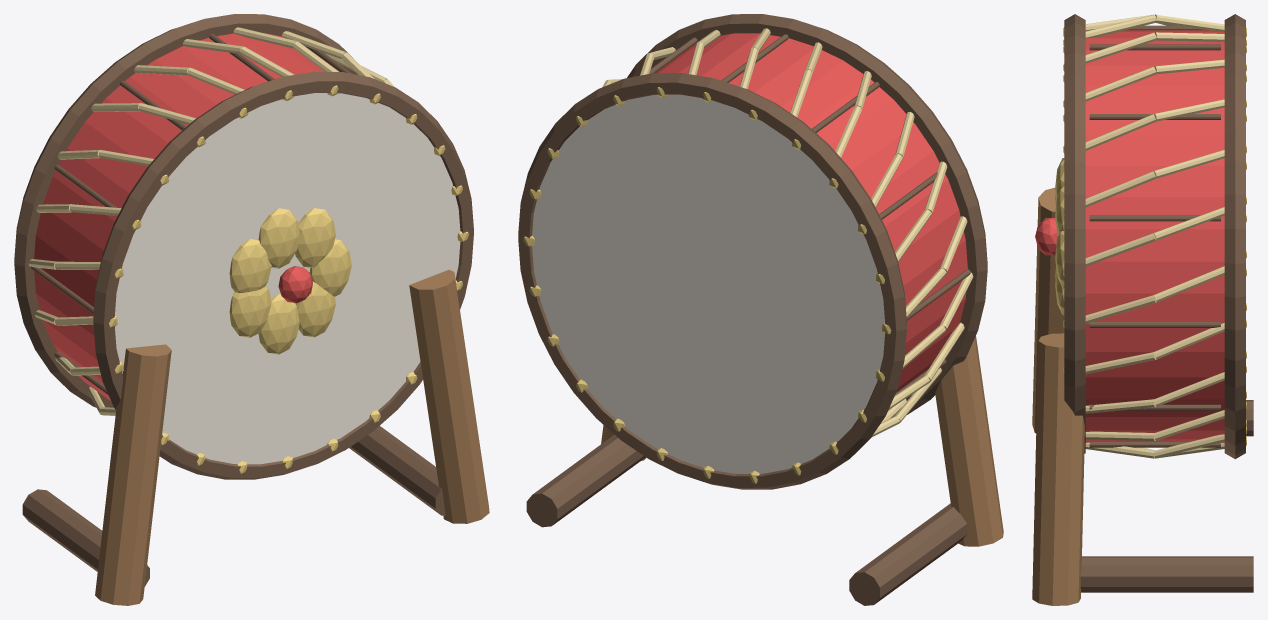
File: shinji_ritual_drum.glb
3 renders of one model, left to right at view 1: azimuth 30°, elevation 25°; view 2: azimuth 150°, elevation 25°; view 3: azimuth 270°, elevation 25°, orthographic. The views are drawn at different scales.
Parts seen in each view (by area): view 1: Sacred fixed shinto shrine drum taut drum skin, Sacred fixed shinto shrine drum hardwood shell, Sacred fixed shinto shrine drum leather head rim, Drum stand arch foot, Drum stand arch foot.001, Sacred fixed shinto shrine drum leather head rim.001, Crossbrace.001, Crossbrace, Shrine drum traditional mon petal.002, Shrine drum traditional mon petal.001, Shrine drum traditional mon petal.003, Shrine drum traditional mon petal.005 (+4 smaller); view 2: Sacred fixed shinto shrine drum taut drum skin.001, Sacred fixed shinto shrine drum hardwood shell, Sacred fixed shinto shrine drum leather head rim.001, Sacred fixed shinto shrine drum leather head rim, Drum stand arch foot, Crossbrace, Crossbrace.001; view 3: Sacred fixed shinto shrine drum hardwood shell, Drum stand arch foot.001, Sacred fixed shinto shrine drum leather head rim.001, Sacred fixed shinto shrine drum leather head rim, Crossbrace.001, Drum stand arch foot, Sacred fixed shinto shrine drum wood grain, Sacred fixed shinto shrine drum wood grain.001, Sacred fixed shinto shrine drum wood grain.003, Shrine drum traditional mon center, Sacred fixed shinto shrine drum wood grain.010, Sacred fixed shinto shrine drum tightening rope_00.004 (+26 smaller).
Part boxes in pixels (box(x1,y1,x2,y2)): Sacred fixed shinto shrine drum taut drum skin: box(115, 93, 460, 464); Sacred fixed shinto shrine drum hardwood shell: box(34, 33, 339, 401); Sacred fixed shinto shrine drum leather head rim: box(93, 71, 473, 479); Drum stand arch foot: box(95, 344, 171, 605); Drum stand arch foot.001: box(409, 269, 489, 523); Sacred fixed shinto shrine drum leather head rim.001: box(14, 14, 357, 407); Crossbrace.001: box(349, 426, 445, 515); Crossbrace: box(22, 489, 149, 586); Shrine drum traditional mon petal.002: box(258, 208, 299, 268); Shrine drum traditional mon petal.001: box(295, 208, 335, 267); Shrine drum traditional mon petal.003: box(229, 239, 271, 292); Shrine drum traditional mon petal.005: box(258, 294, 299, 354); Sacred fixed shinto shrine drum taut drum skin.001: box(532, 94, 884, 473); Sacred fixed shinto shrine drum hardwood shell: box(655, 33, 967, 391); Sacred fixed shinto shrine drum leather head rim.001: box(518, 73, 906, 489); Sacred fixed shinto shrine drum leather head rim: box(627, 14, 987, 416); Drum stand arch foot: box(935, 336, 1003, 546); Crossbrace: box(849, 503, 967, 605); Crossbrace.001: box(526, 434, 645, 527); Sacred fixed shinto shrine drum hardwood shell: box(1085, 30, 1224, 442); Drum stand arch foot.001: box(1032, 333, 1084, 605); Sacred fixed shinto shrine drum leather head rim.001: box(1224, 14, 1245, 459); Sacred fixed shinto shrine drum leather head rim: box(1064, 14, 1085, 453); Crossbrace.001: box(1080, 556, 1253, 592); Drum stand arch foot: box(1032, 187, 1064, 433); Sacred fixed shinto shrine drum wood grain: box(1089, 322, 1220, 327); Sacred fixed shinto shrine drum wood grain.001: box(1089, 215, 1220, 221); Sacred fixed shinto shrine drum wood grain.003: box(1089, 44, 1220, 50); Shrine drum traditional mon center: box(1035, 218, 1057, 255); Sacred fixed shinto shrine drum wood grain.010: box(1089, 441, 1220, 447); Sacred fixed shinto shrine drum tightening rope_00.004: box(1085, 66, 1156, 101).
Size of the model in its own units: 1.66 by 1.95 by 0.8106.
